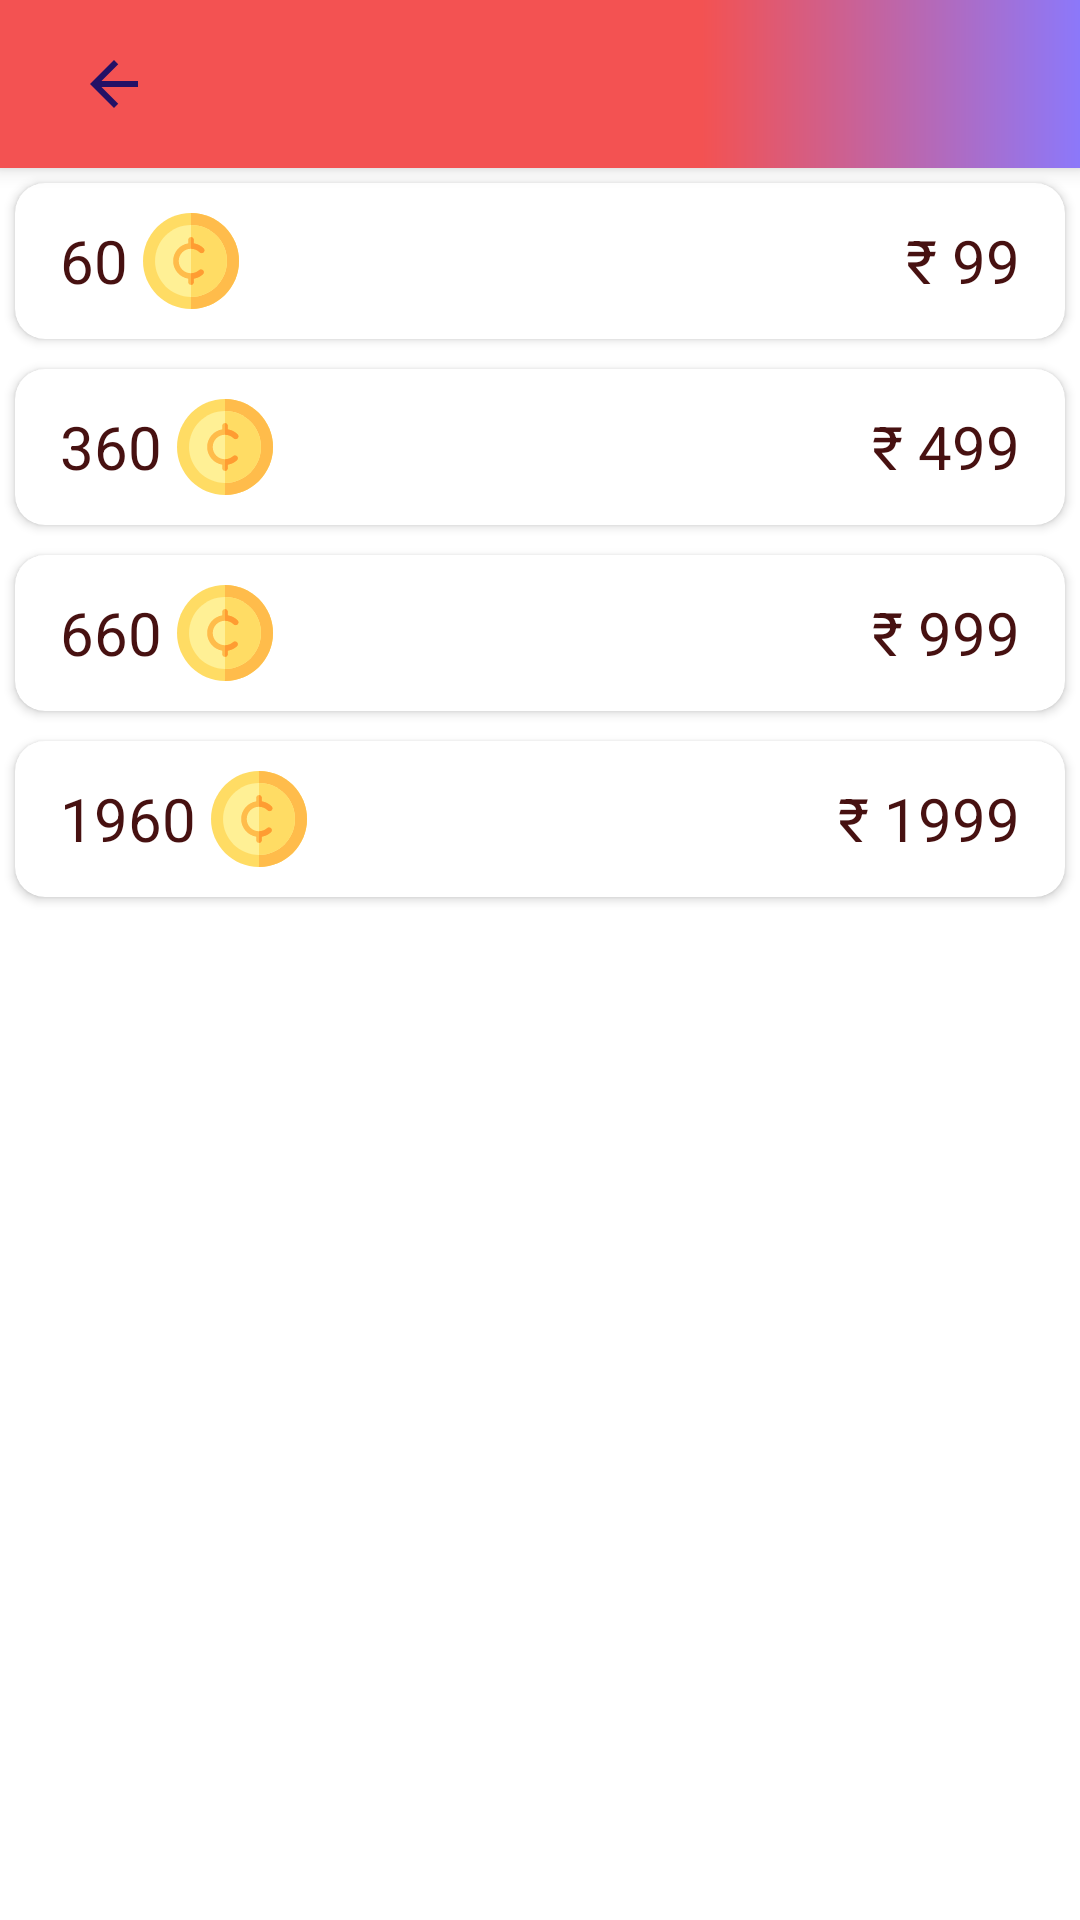

Screen size 1080*1920. Icon name, then its center in pixels as (x=x, y=y):
arrow back: (x=114, y=84)
cent: (x=191, y=261), (x=225, y=447), (x=225, y=633), (x=259, y=819)
